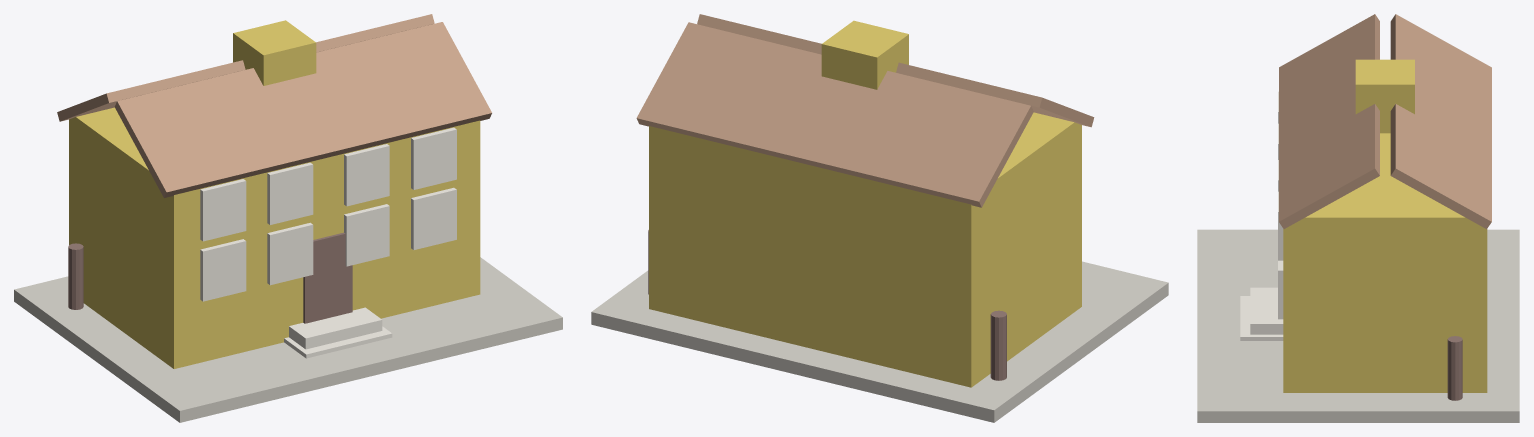
Rendered from SCHOOL.glb.
3 renders of one model, left to right at view 1: azimuth 30°, elevation 25°; view 2: azimuth 150°, elevation 25°; view 3: azimuth 270°, elevation 25°, orthographic. The views are drawn at different scales.
Parts seen in each view (by area): view 1: SCHOOL; view 2: SCHOOL; view 3: SCHOOL.
Boxes of the visible parts, x1,y1,x2,y2 form: SCHOOL: (14, 14, 562, 422); SCHOOL: (591, 14, 1168, 422); SCHOOL: (1197, 14, 1519, 422).
Bounding box in the file's own units: 4 × 2.67 × 3.
